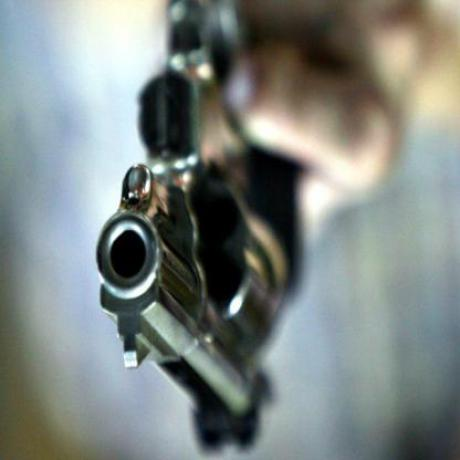weapon: (89, 0, 323, 457)
